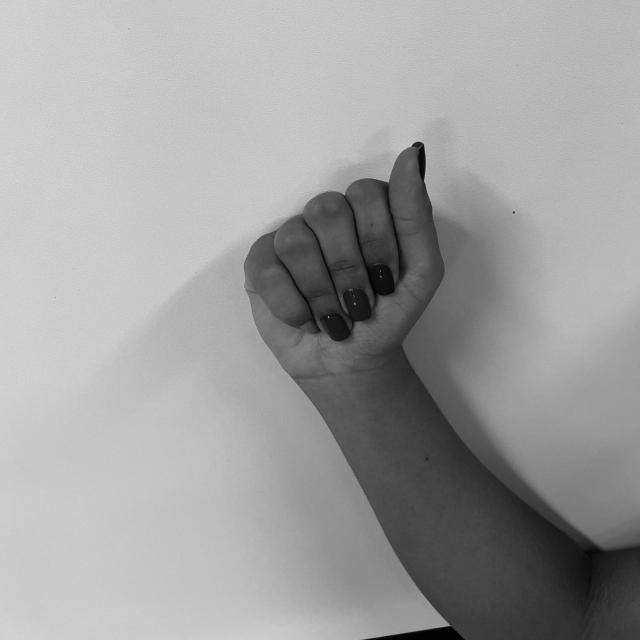Letra A: (237, 134, 455, 385)
